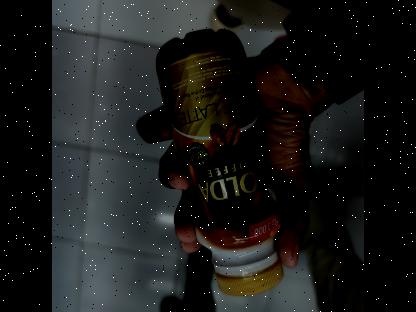Plastic Bottle: (157, 27, 282, 296)
